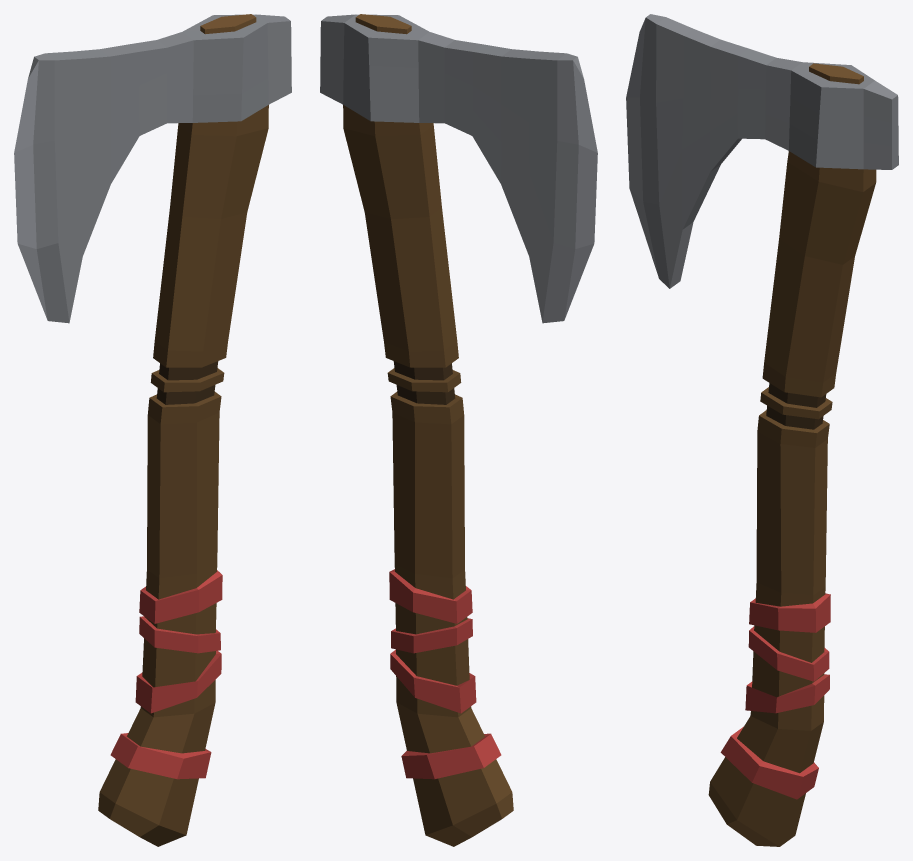
The model's file is Axe.glb.
The picture shows the model from 3 angles, left to right: view 1: azimuth 30°, elevation 25°; view 2: azimuth 150°, elevation 25°; view 3: azimuth 330°, elevation 25°; orthographic projection.
Parts seen in each view (by area): view 1: Axe_B; view 2: Axe_B; view 3: Axe_B.
Boxes of the visible parts, box(x1,y1,x2,y2) form: Axe_B: box(14, 14, 291, 846); Axe_B: box(320, 14, 597, 846); Axe_B: box(626, 14, 898, 846).
Bounding box in the file's own units: 7416 × 20989 × 1632.
Materials: 1 (1 with a texture image).
